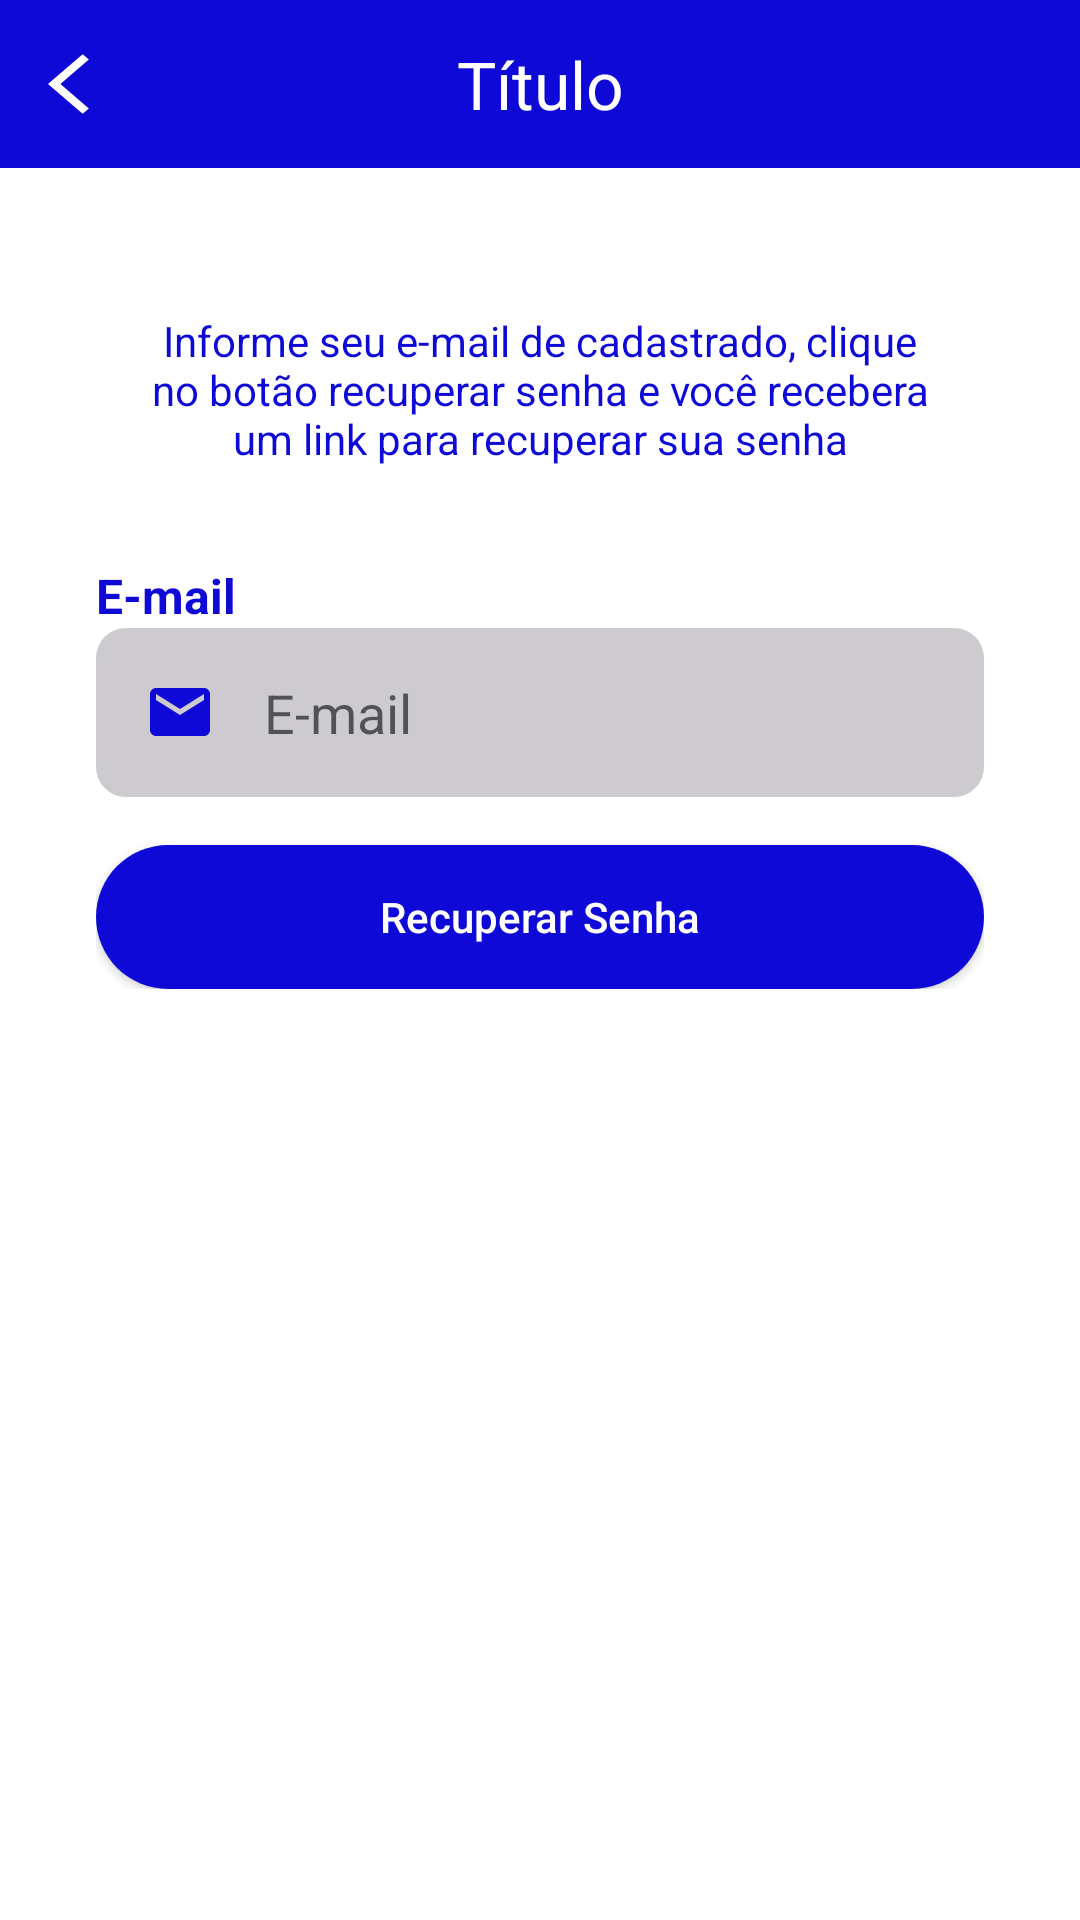

Point at icon controls on the screen. Image size 1080 x 1920, points as point (x, y).
voltar: point (68, 84)
